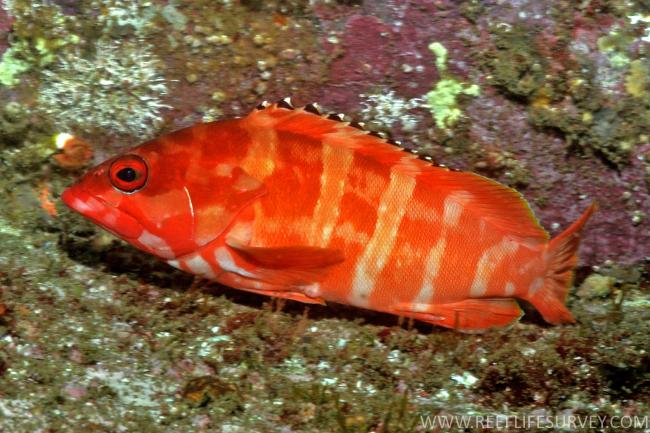fish: (61, 95, 598, 335)
